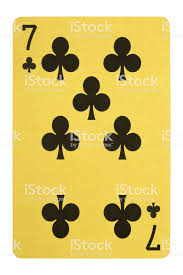seven of seven: (12, 19, 170, 258)
